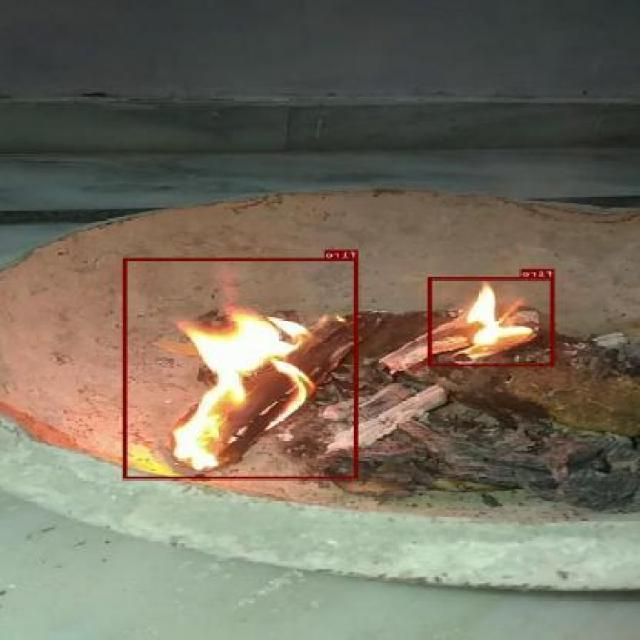Fire: (124, 256, 358, 478), (428, 277, 554, 366)
